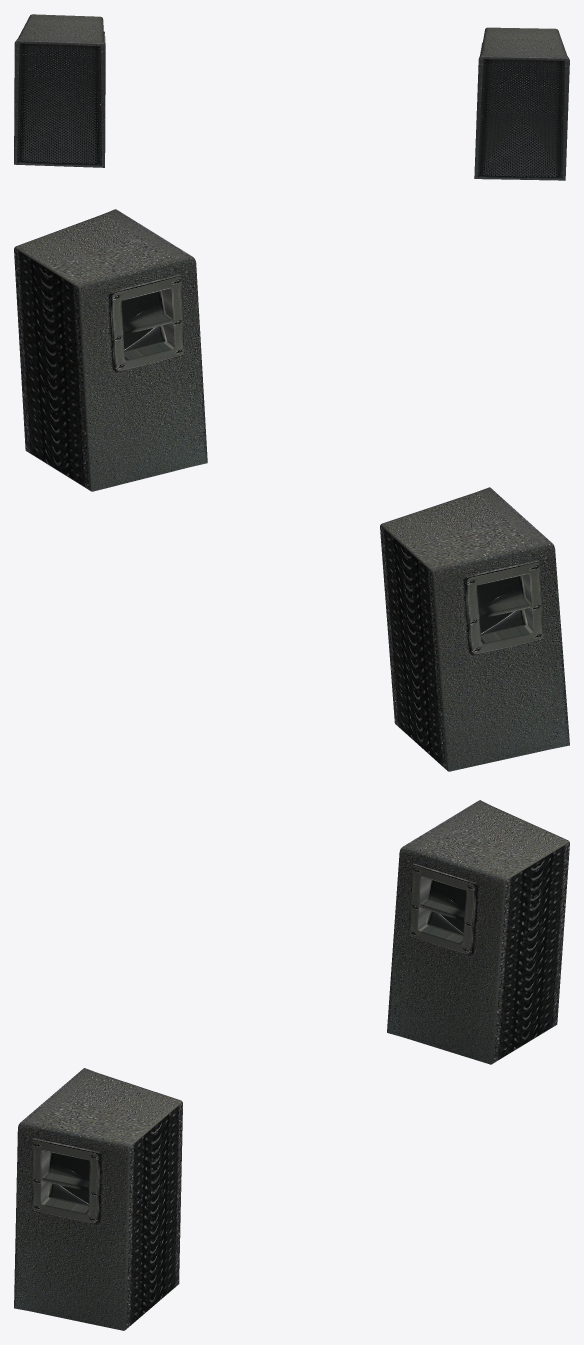
Rendered from speakers.glb.
3 views of the same model, one above another, from view 1: azimuth 30°, elevation 25°; view 2: azimuth 150°, elevation 25°; view 3: azimuth 270°, elevation 25° (orthographic). The views are drawn at different scales.
Parts seen in each view (by area): view 1: Cube.006, Cube.007; view 2: Cube.006, Cube.007; view 3: Cube.007, Cube.006.
Boxes of the visible parts, x1,y1,x2,y2 form: Cube.006: (474, 27, 569, 180); Cube.007: (14, 14, 105, 167); Cube.006: (14, 209, 207, 491); Cube.007: (380, 487, 569, 771); Cube.007: (387, 800, 569, 1064); Cube.006: (14, 1068, 182, 1330).
Size of the model in its own units: 7.02 by 2.03 by 4.95.
1 material, 1 textured.
